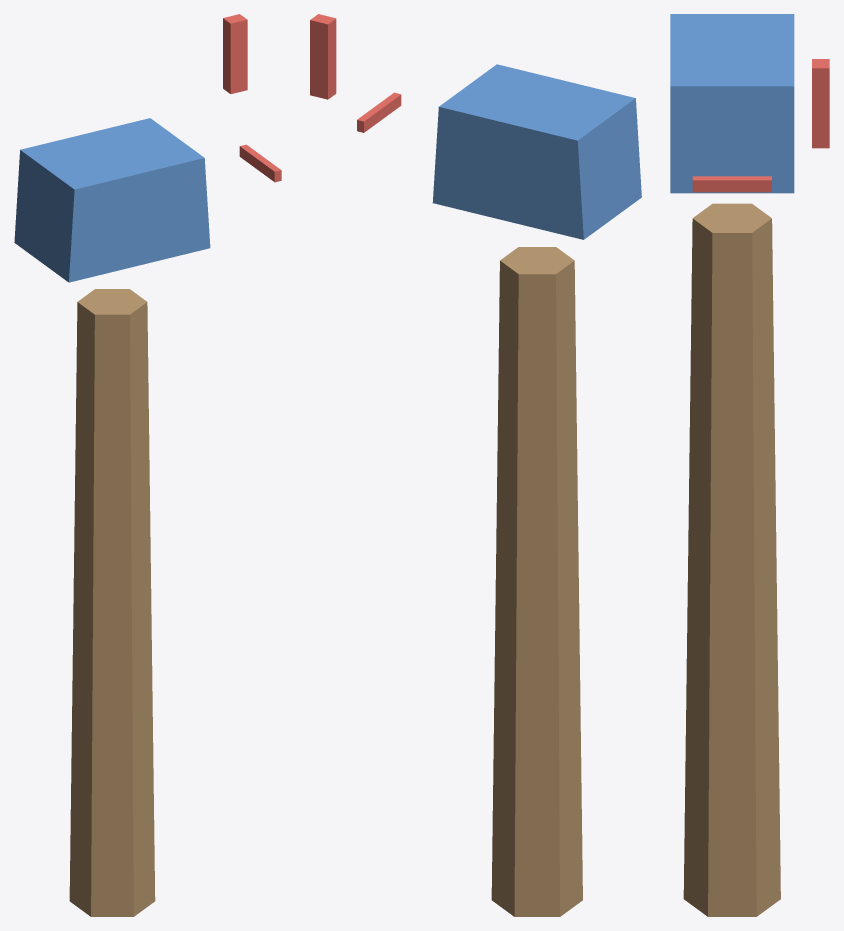
Rendered from mailbox.glb.
3 views of the same model, side by side, from view 1: azimuth 30°, elevation 25°; view 2: azimuth 150°, elevation 25°; view 3: azimuth 270°, elevation 25° (orthographic). The views are drawn at different scales.
Visible parts, largest first — view 1: Mailbox; view 2: Mailbox; view 3: Mailbox.
Part boxes in pixels (x1=…): Mailbox: x1=14, y1=14, x2=281, y2=916; Mailbox: x1=310, y1=14, x2=641, y2=916; Mailbox: x1=670, y1=14, x2=829, y2=916.
Size of the model in its own units: 0.3575 by 1.16 by 0.18.
